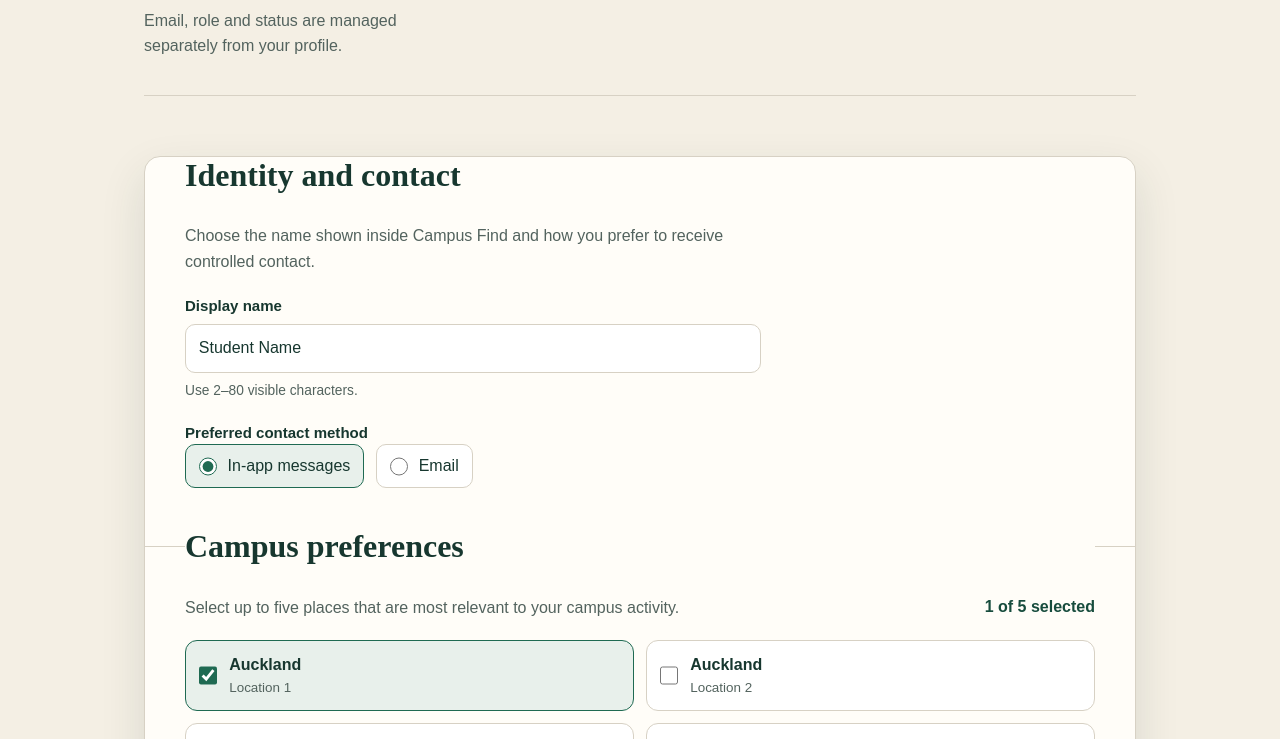
ProfileSettingsClient form › normalises the exact PATCH body and saves only once
(page scrolled)
Replace the text in the field labelled "Display name" with "  Updated   Student  ": coordinates (473, 348) [185,324,761,373]
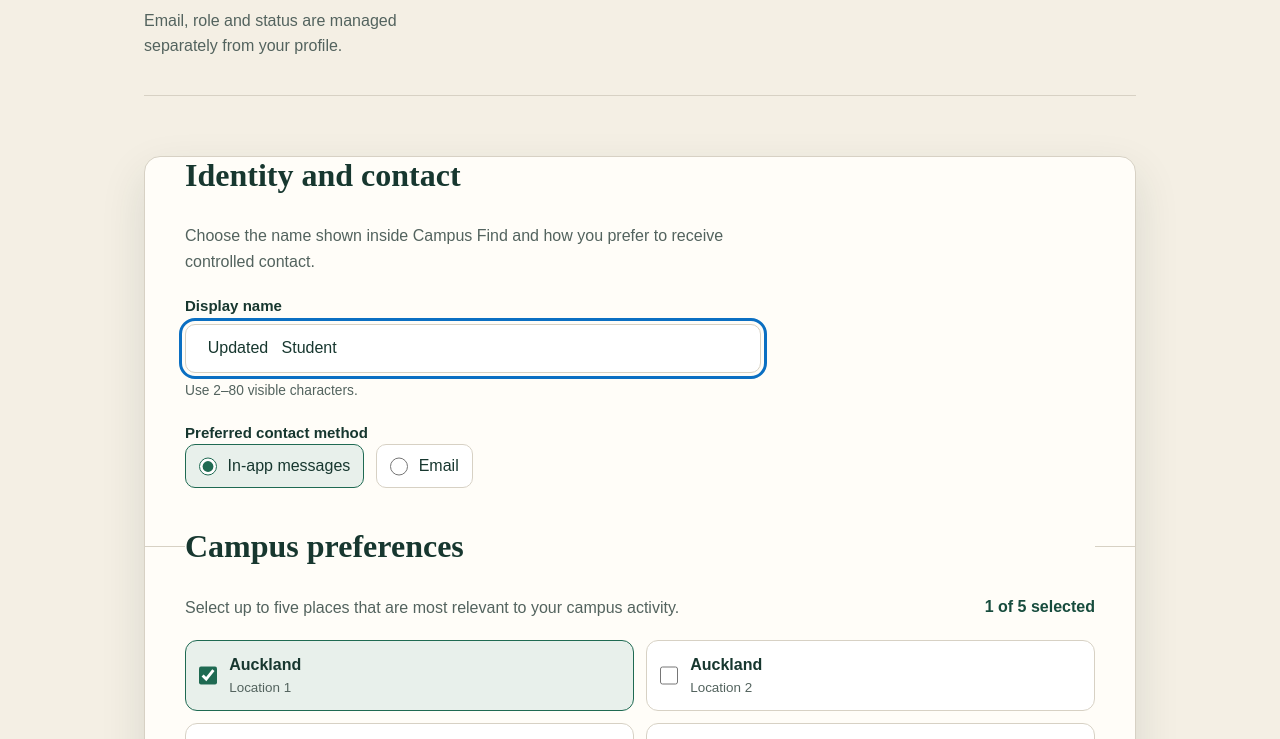
Click the radio button labelled "Email": coordinates (399, 466) [390,457,408,476]
(page scrolled)
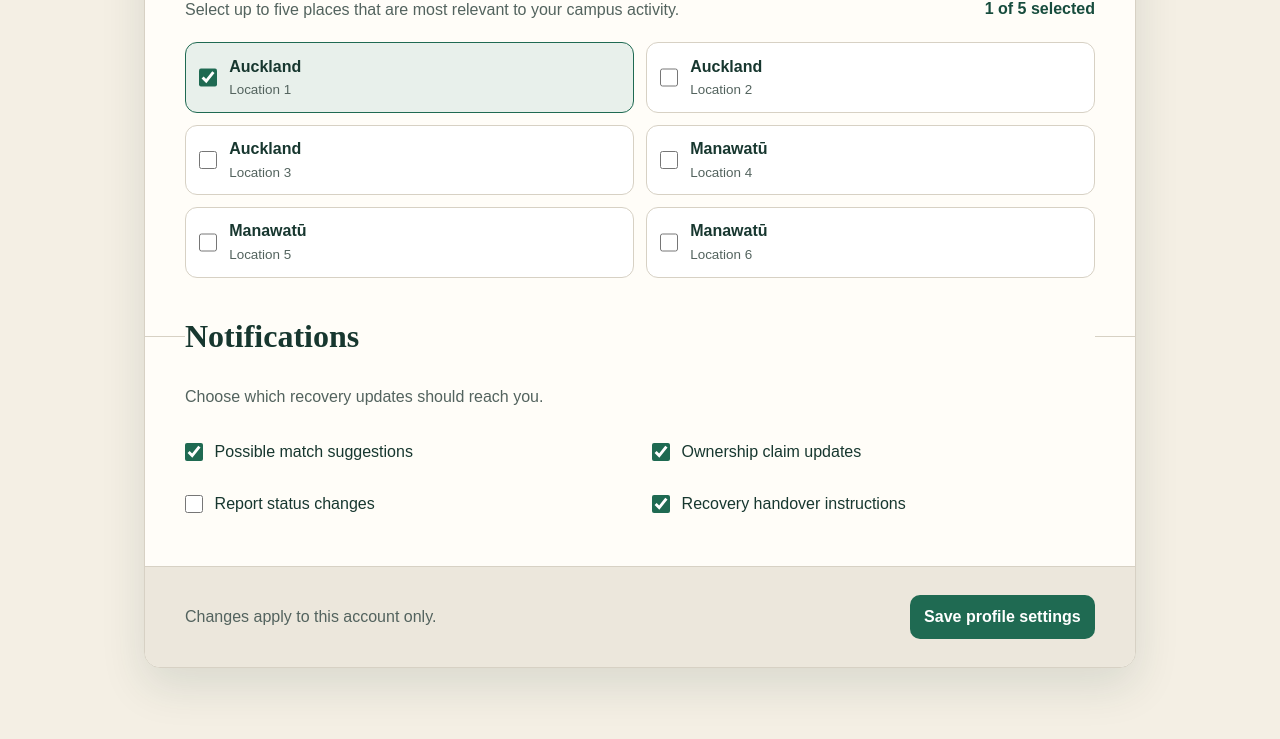
Click the button "Save profile settings": coordinates (1002, 617) [910,595,1095,640]
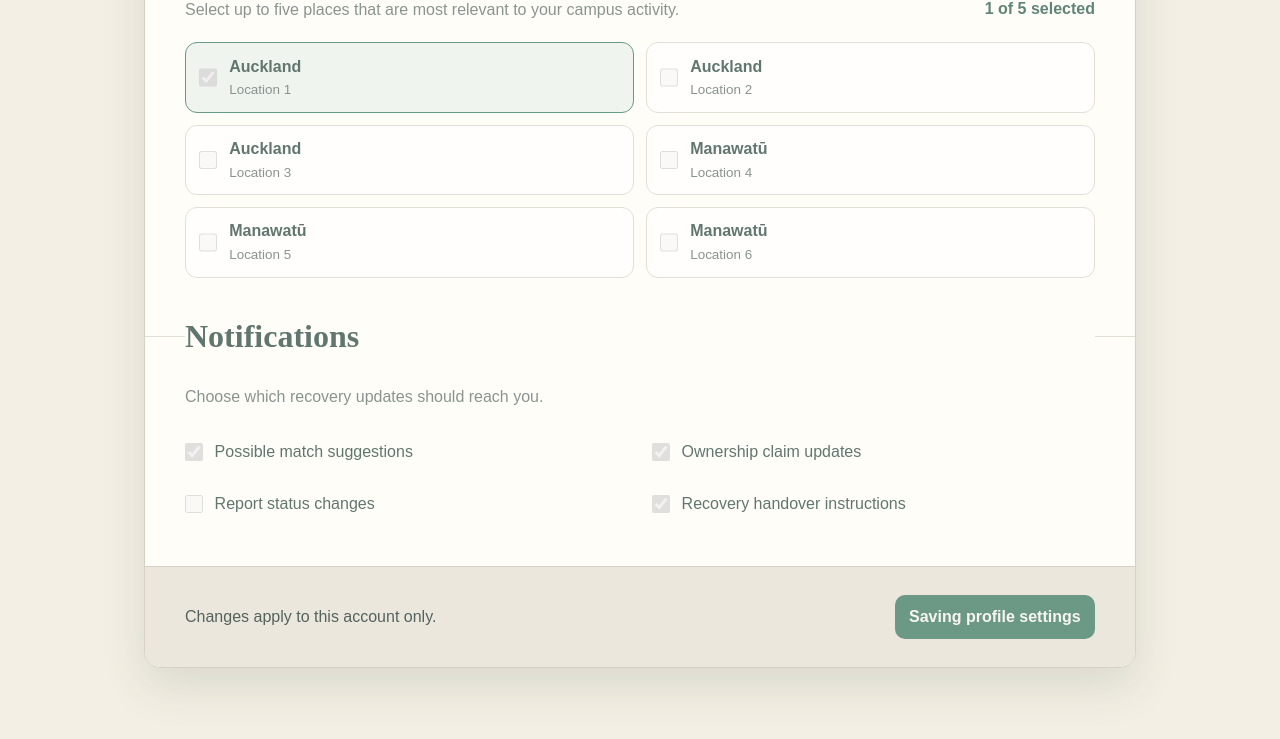
Click the button named "Save profile settings": coordinates (995, 617) [895,595,1095,640]
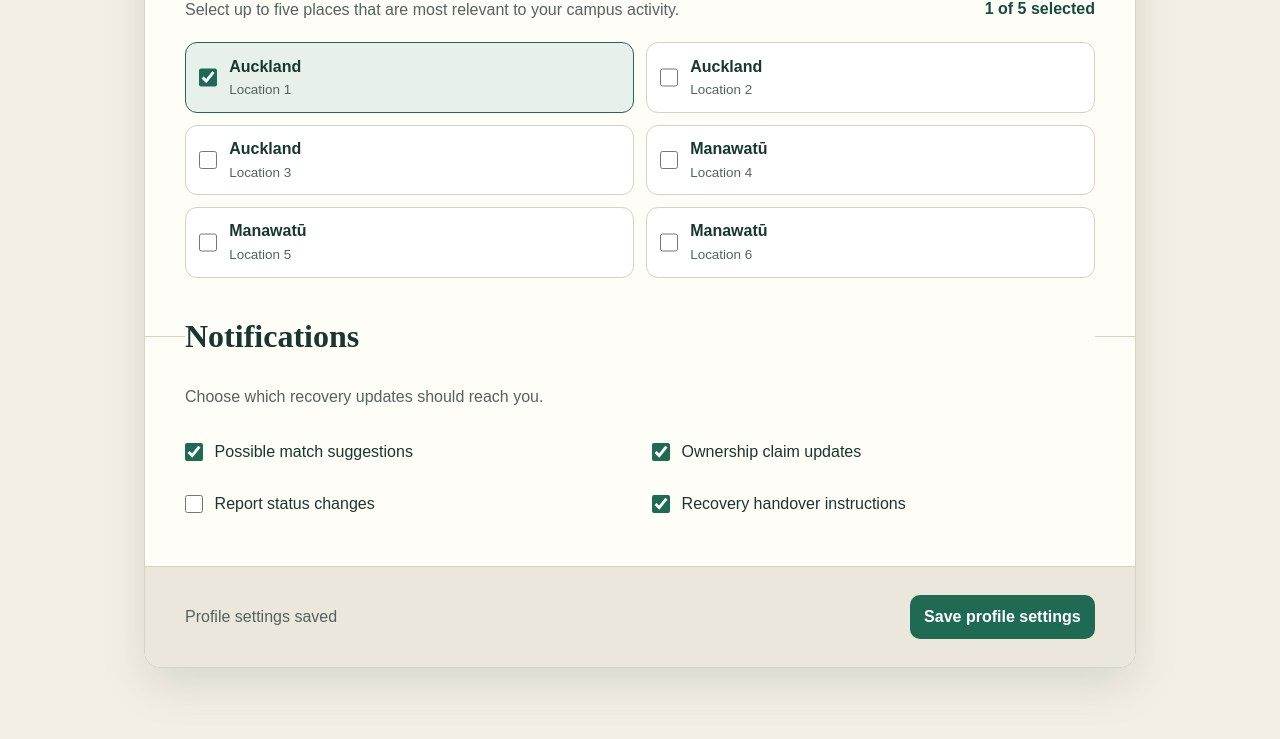
expect the text "Profile settings saved" is shown: met, box [185,604,337,630]
